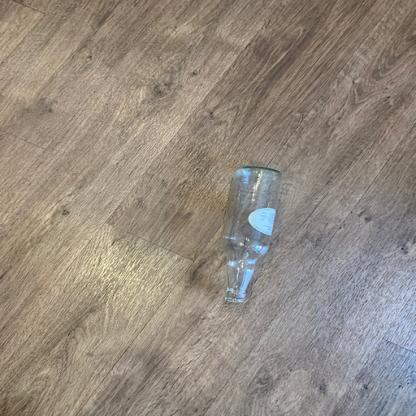trash: (219, 164, 284, 303)
